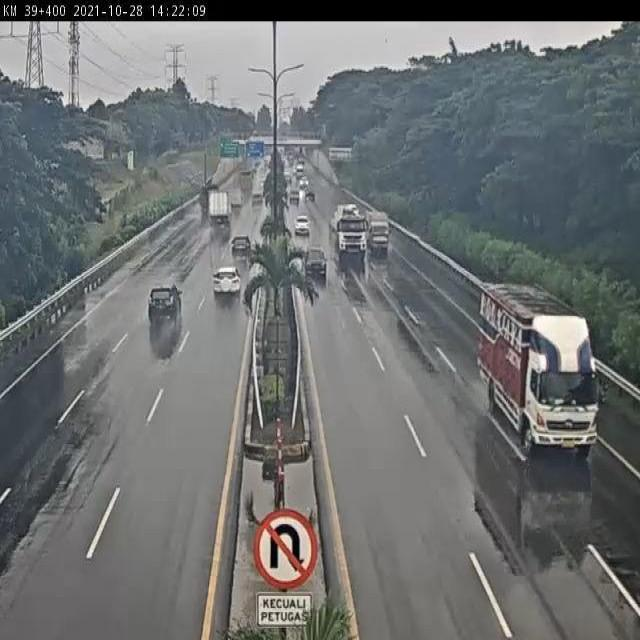car: (144, 281, 184, 327), (212, 262, 244, 302), (305, 246, 330, 278), (229, 232, 253, 261)
truck-l-: (475, 282, 601, 462), (205, 191, 234, 228)
truck-s-: (367, 208, 391, 257)
truck-xl-: (331, 203, 368, 260)
